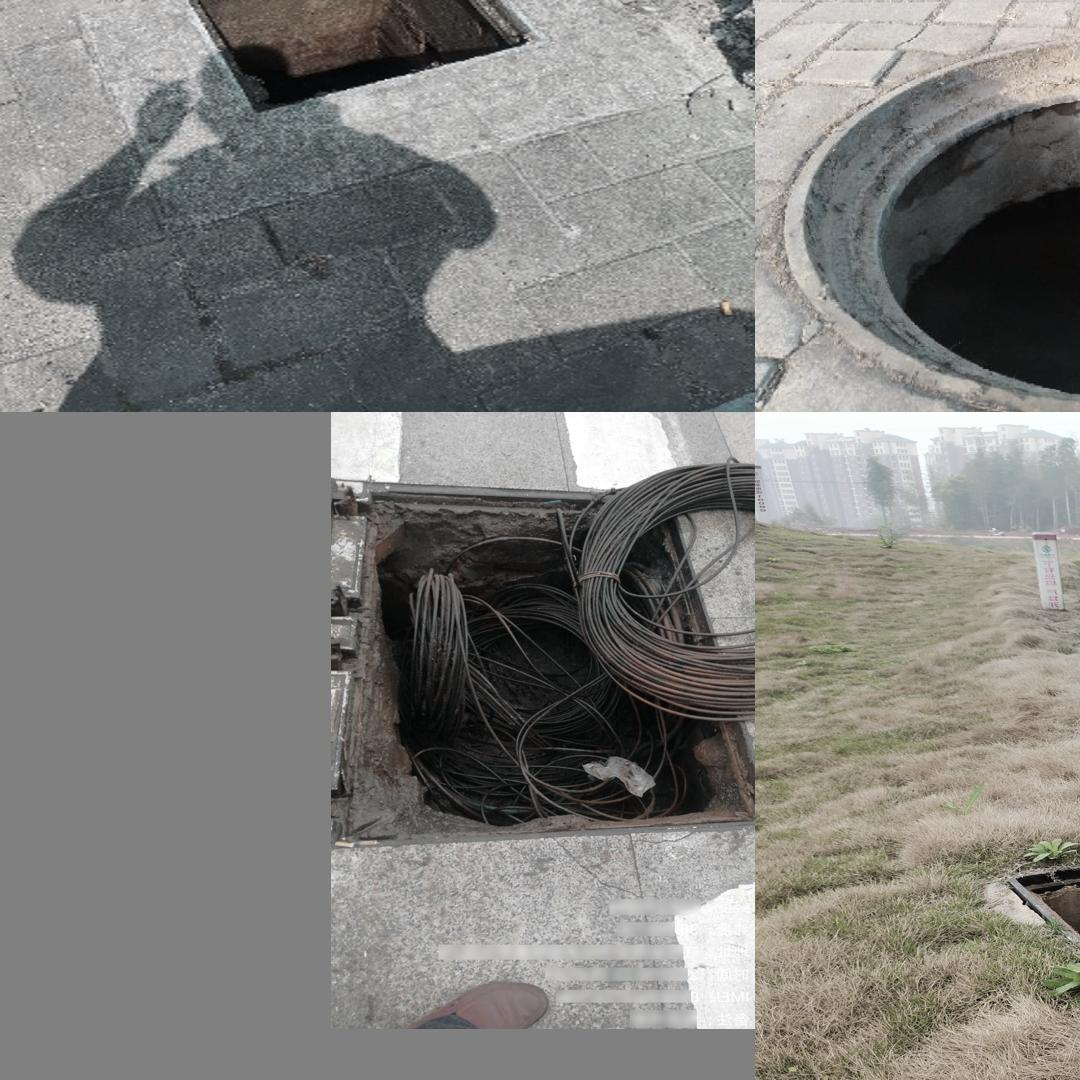lose: (340, 478, 744, 865), (780, 32, 1080, 412), (153, 0, 556, 121), (1008, 824, 1080, 952)
